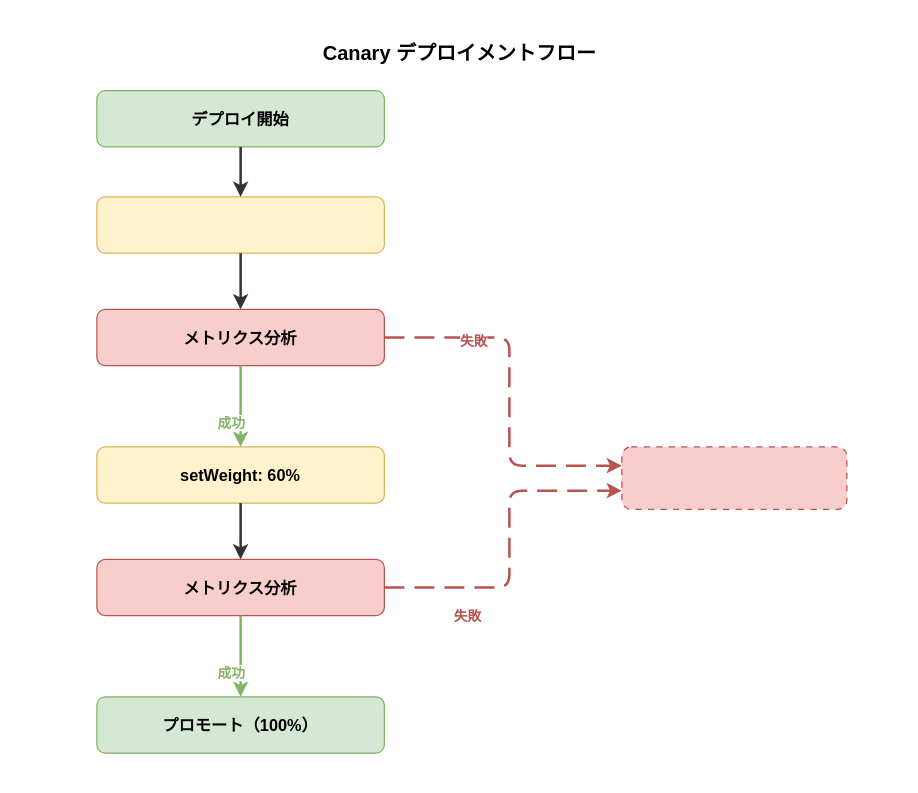
The diagram is 918 pixels wide and 793 high, and some of its shapes have lost their labels. Here are the shapes that lost their labels. From the top down, the centre of each, then its label:
At point 240,224: "setWeight: 20%".
At point 734,477: "自動ロールバック".
